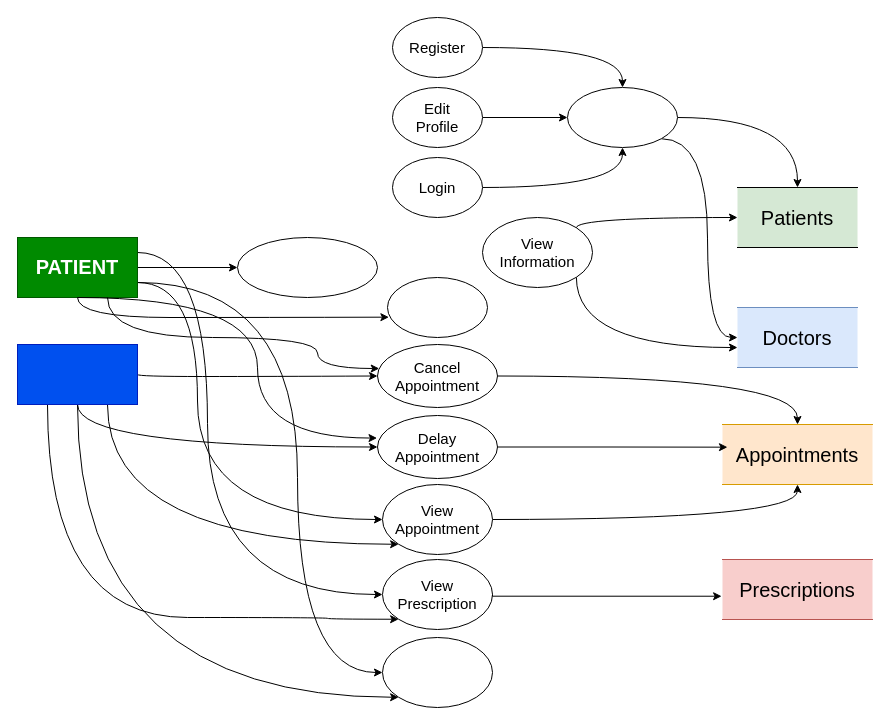
The diagram is 890 pixels wide and 725 high, and some of its shapes have lost their labels. Here are the shapes that lost their labels. From the top down, the centre of each, then its label:
At point (622, 117): "Check Constraints".
At point (307, 267): "Book Appointment".
At point (437, 307): "Search".
At point (77, 374): "DOCTOR".
At point (437, 672): "Chat".
